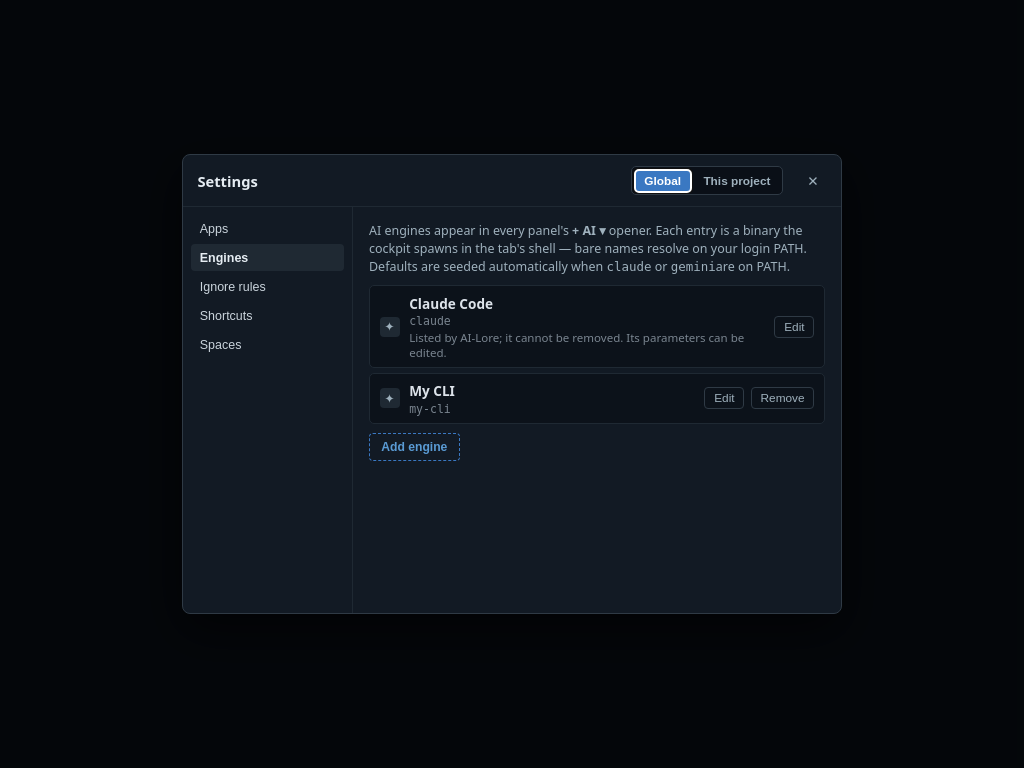
Test case: model survives an edit that only changes the engine's name
Click the button with test id "engine-edit-my-own-cli" at (724,398), box [704, 387, 744, 410]
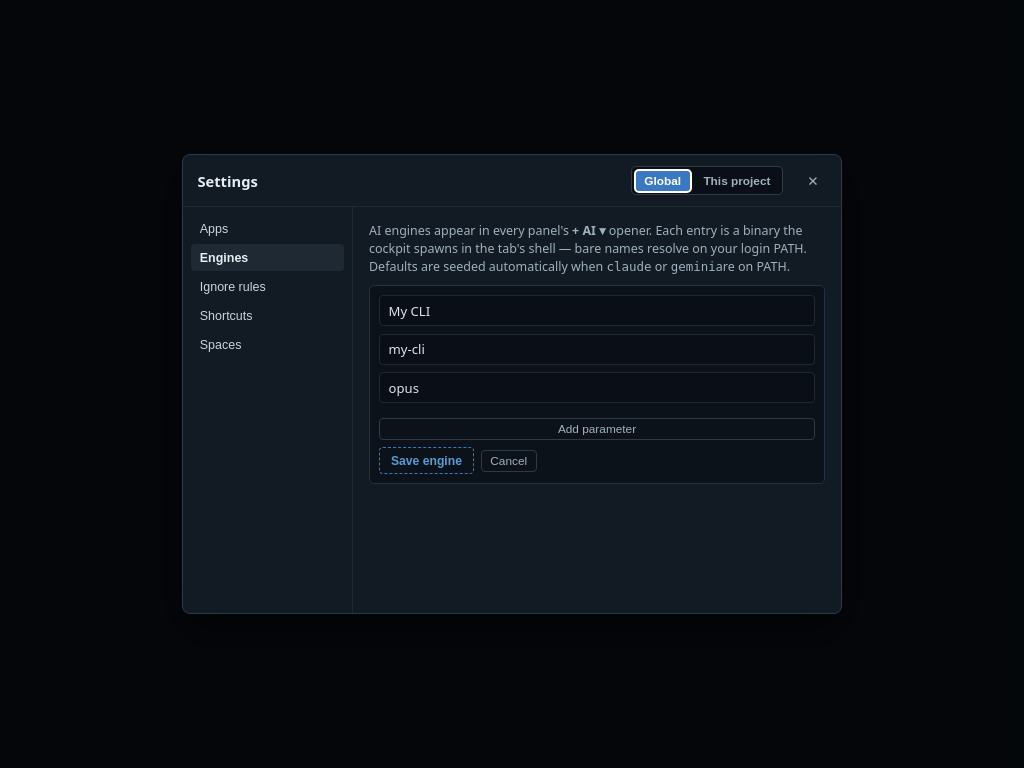
Replace the text in the field with test id "engine-draft-name" with "My CLI, renamed" at (597,311), box [379, 295, 815, 326]
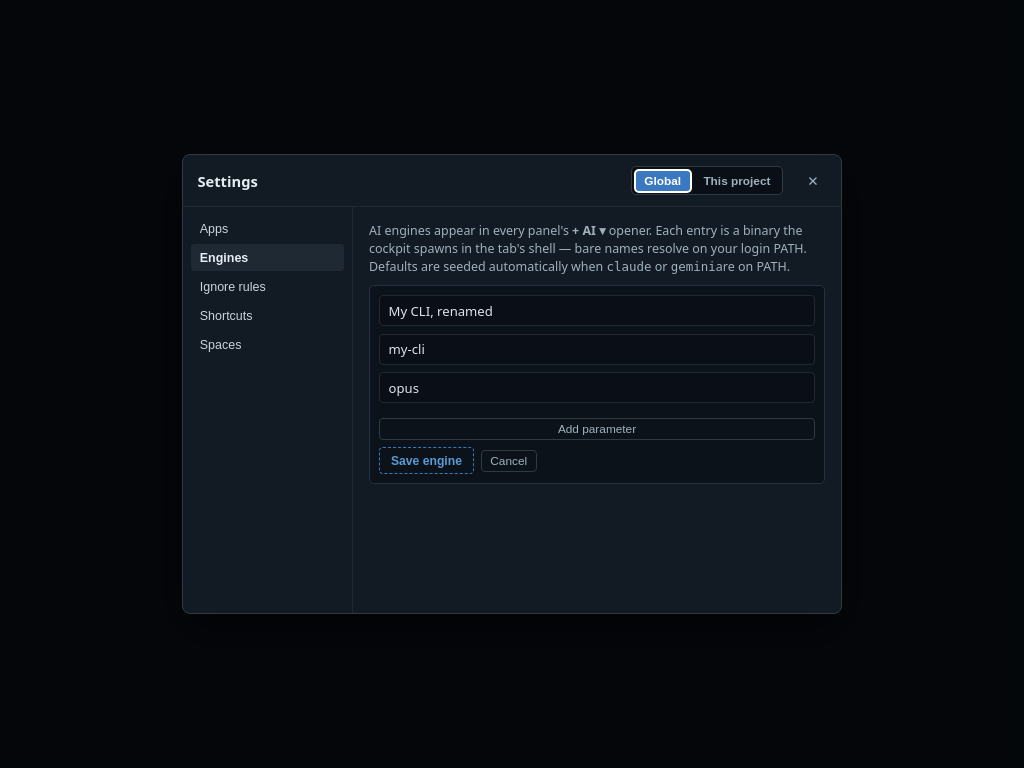
Click the button with test id "engine-draft-save" at (426,461), box [379, 447, 474, 474]
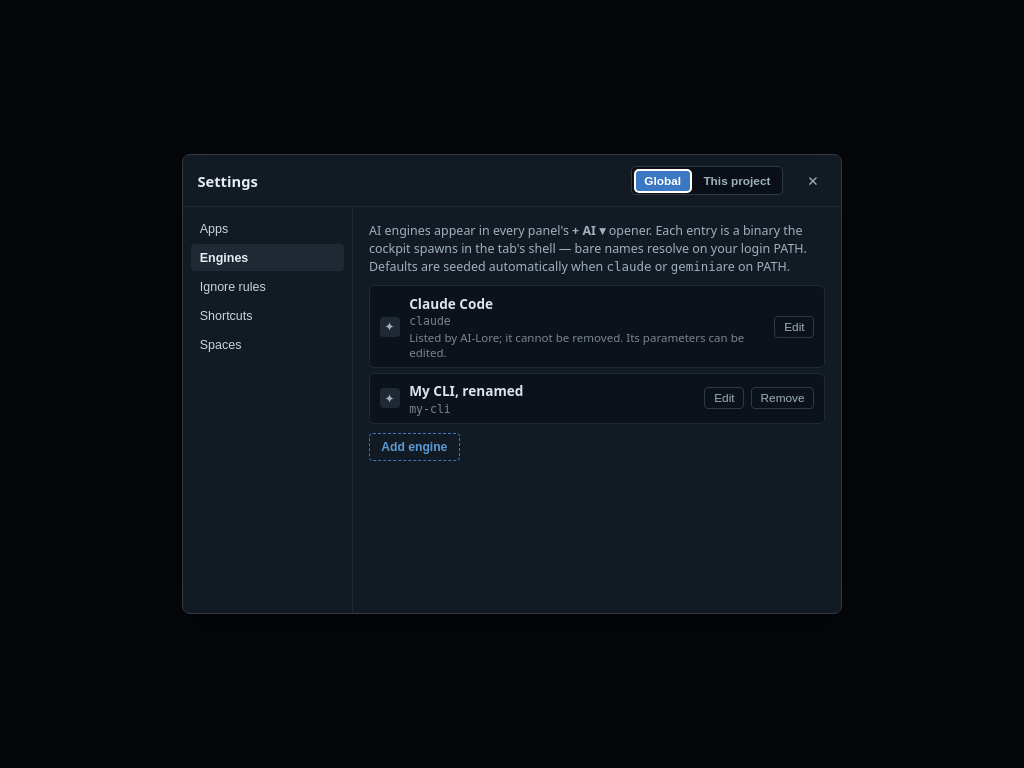
Result: the text "My CLI, renamed" is shown at [409, 381, 523, 400]
